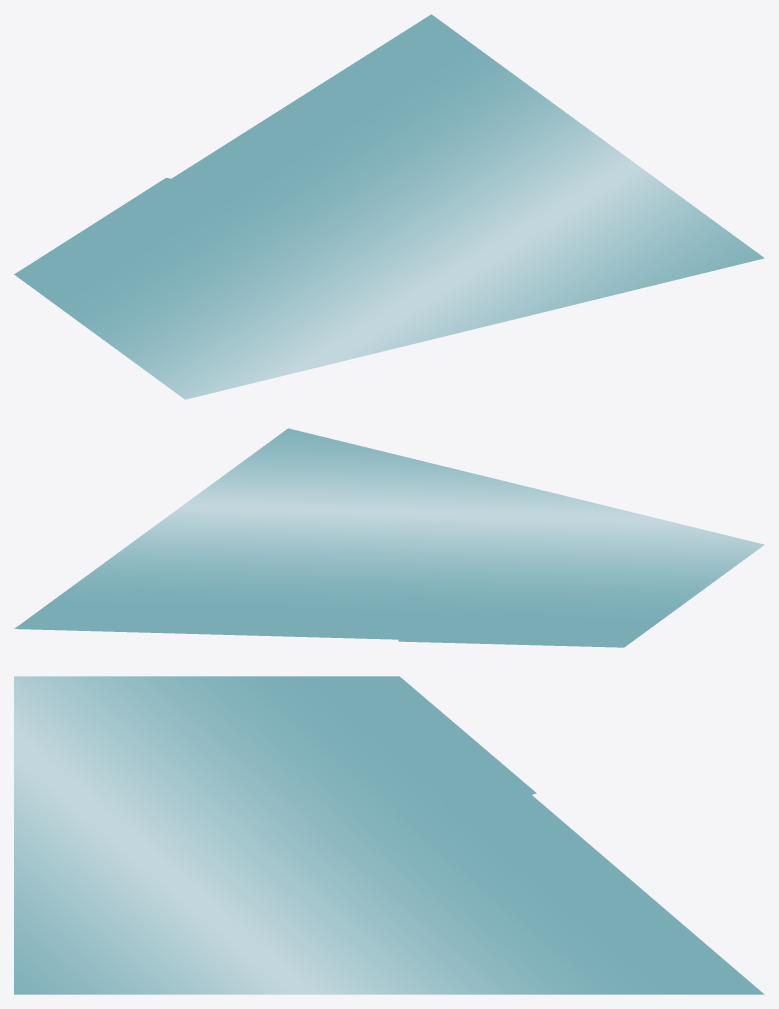
The picture shows the model from 3 angles, top to bottom: view 1: azimuth 30°, elevation 25°; view 2: azimuth 150°, elevation 25°; view 3: azimuth 270°, elevation 25°; orthographic projection. The views are drawn at different scales.
Parts seen in each view (by area): view 1: city; view 2: city; view 3: city.
Boxes of the visible parts, x1=… form: city: x1=14, y1=14, x2=764, y2=399; city: x1=14, y1=428, x2=764, y2=647; city: x1=14, y1=676, x2=764, y2=994.
Bounding box in the file's own units: 500 × 0 × 498.
